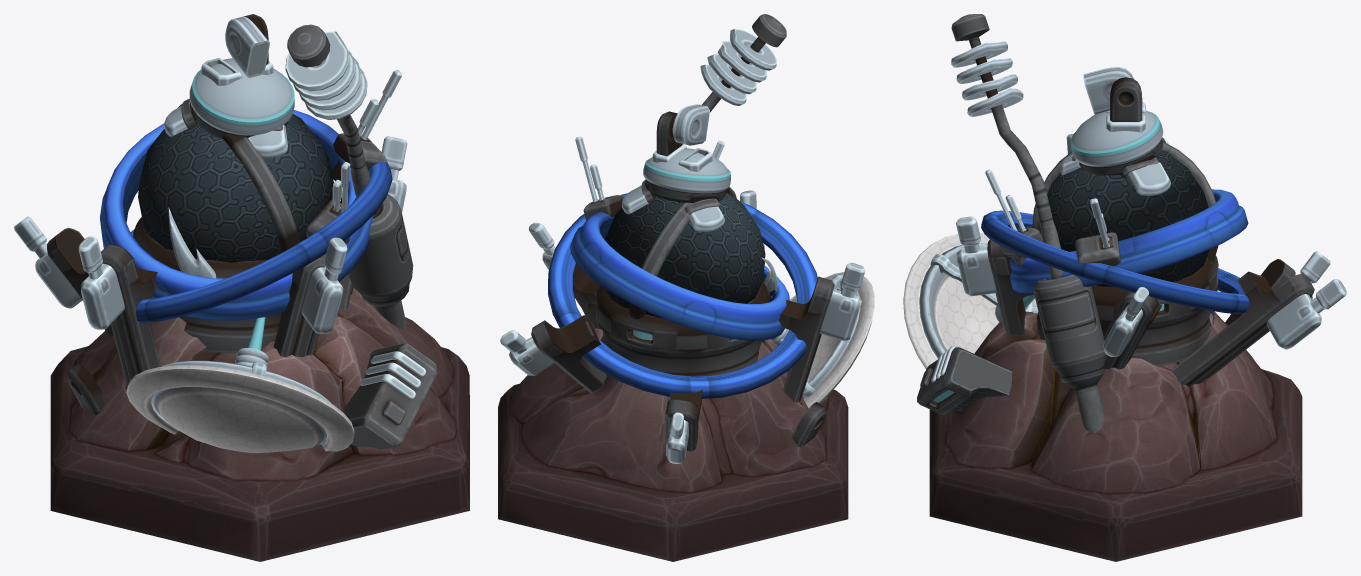
Rendered from CC_lvl2_dstr.fbx.
The picture shows the model from 3 angles, left to right: view 1: azimuth 30°, elevation 25°; view 2: azimuth 150°, elevation 25°; view 3: azimuth 270°, elevation 25°; orthographic projection. The views are drawn at different scales.
Visible parts, largest first — view 1: Mountain_tile_constructed; view 2: Mountain_tile_constructed; view 3: Mountain_tile_constructed.
Part boxes in pixels (x1,y1,x2,y2): Mountain_tile_constructed: (14,14,469,561); Mountain_tile_constructed: (498,14,874,561); Mountain_tile_constructed: (903,14,1346,561).
Bounding box in the file's own units: 7.51 × 8.55 × 7.75.
